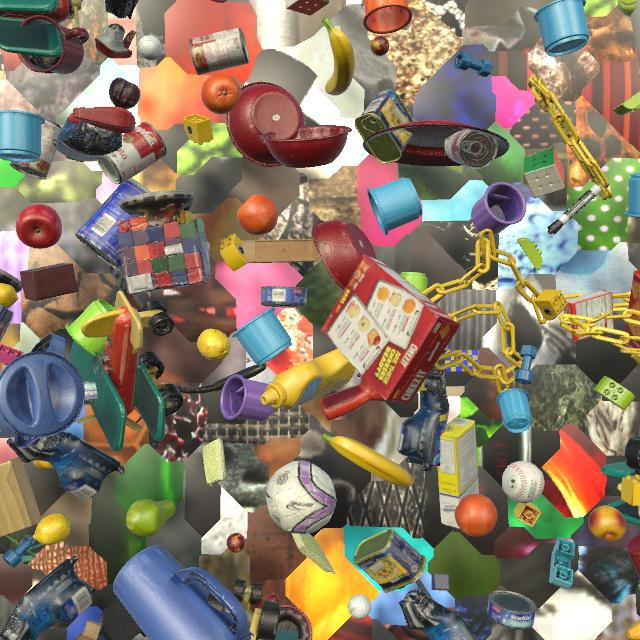ycb_002_master_chef_can: (75, 178, 151, 271)
ycb_003_cracker_box: (321, 255, 460, 404), (624, 269, 640, 366)
ycb_004_sugar_box: (437, 417, 479, 529)
ycb_005_tomato_soup_can: (96, 122, 167, 185), (10, 117, 62, 180), (189, 28, 249, 75), (444, 129, 498, 169)
ycb_006_mustard_bottle: (261, 349, 356, 410), (67, 0, 83, 19)
ycb_007_tuna_fish_can: (487, 590, 536, 630), (261, 286, 308, 308), (84, 381, 98, 405)
ycb_009_gelatin_box: (564, 290, 614, 342)
ycb_010_potted_meat_can: (354, 529, 427, 593), (354, 89, 415, 164)
ycb_011_banana: (322, 433, 414, 487), (322, 17, 355, 96), (626, 584, 640, 640)
ycb_013_apple: (16, 204, 62, 249)
ycb_014_lemon: (33, 513, 71, 545), (197, 329, 231, 361), (0, 283, 18, 308)
ycb_015_peach: (588, 505, 626, 541), (33, 460, 55, 470)
ycb_016_pear: (126, 499, 176, 537)
ycb_017_orange: (454, 494, 497, 537), (237, 194, 278, 235), (201, 73, 241, 115)
ycb_018_plum: (109, 78, 141, 109)
